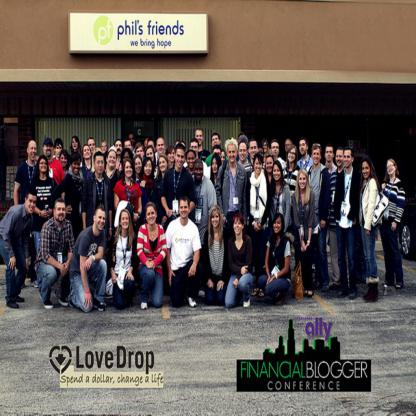face: (27, 194, 38, 214), (56, 203, 66, 224), (96, 210, 106, 231), (95, 156, 105, 175), (147, 207, 157, 226), (180, 200, 190, 219), (177, 149, 186, 169), (228, 146, 237, 164), (234, 217, 243, 235), (121, 212, 130, 229), (195, 163, 204, 180), (344, 151, 353, 168), (274, 217, 283, 234), (30, 142, 38, 160), (108, 151, 117, 167), (126, 161, 134, 178), (255, 158, 263, 175), (363, 162, 371, 179), (313, 148, 321, 165), (73, 159, 81, 175), (212, 213, 220, 229), (274, 165, 282, 181), (299, 173, 307, 189), (88, 139, 96, 154), (196, 131, 204, 146), (289, 148, 297, 163), (188, 152, 195, 169), (240, 144, 247, 161), (251, 142, 258, 159), (337, 150, 344, 167), (40, 159, 48, 173), (45, 144, 53, 158), (136, 158, 143, 174), (145, 161, 152, 177), (147, 148, 154, 164), (160, 158, 168, 172), (191, 142, 199, 156), (272, 143, 280, 157), (326, 148, 334, 162), (158, 139, 165, 154), (267, 158, 274, 173), (300, 140, 307, 155), (116, 141, 123, 155), (124, 152, 131, 166), (137, 146, 144, 160), (169, 149, 176, 163), (388, 162, 395, 176), (56, 144, 63, 157), (61, 154, 68, 167), (84, 146, 91, 159), (214, 149, 221, 162), (213, 159, 219, 174), (148, 142, 155, 154), (213, 136, 220, 148), (125, 142, 132, 153), (73, 139, 79, 150), (102, 143, 108, 154), (259, 149, 264, 162), (221, 153, 226, 165), (130, 135, 135, 146), (263, 142, 268, 153), (286, 141, 291, 152), (270, 149, 274, 156), (36, 155, 39, 161)
